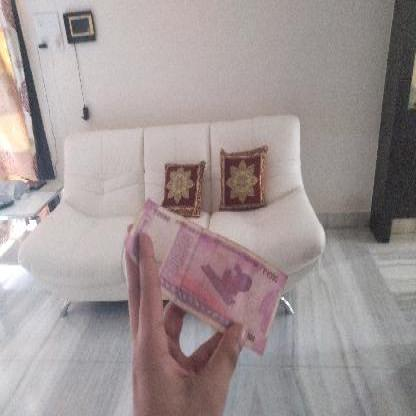New2000Back: (126, 197, 282, 355)
